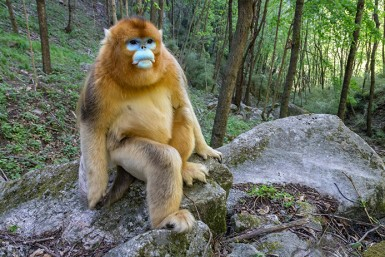GoldenSnub-Nosed: (77, 18, 221, 221)
